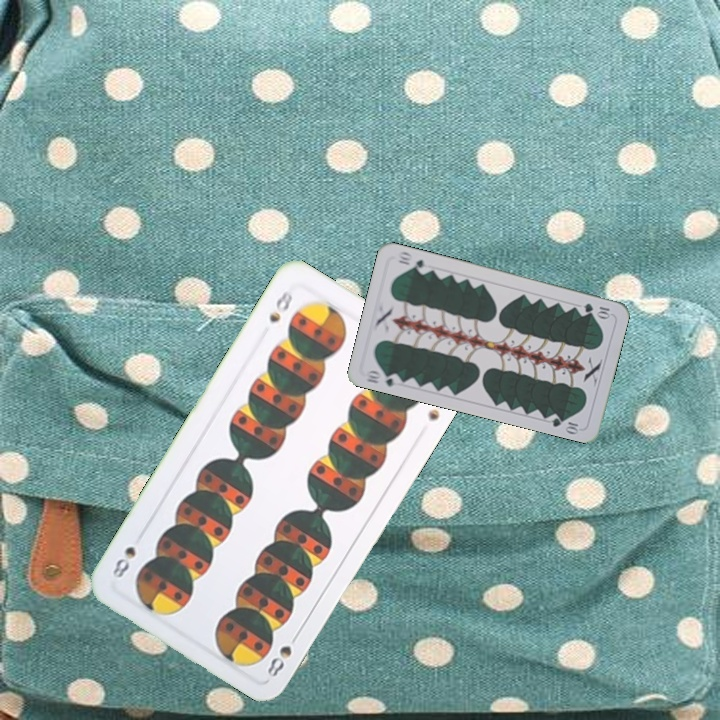G10: (361, 366, 403, 389), (580, 299, 612, 320)
S8: (264, 282, 295, 326), (263, 641, 295, 680)
